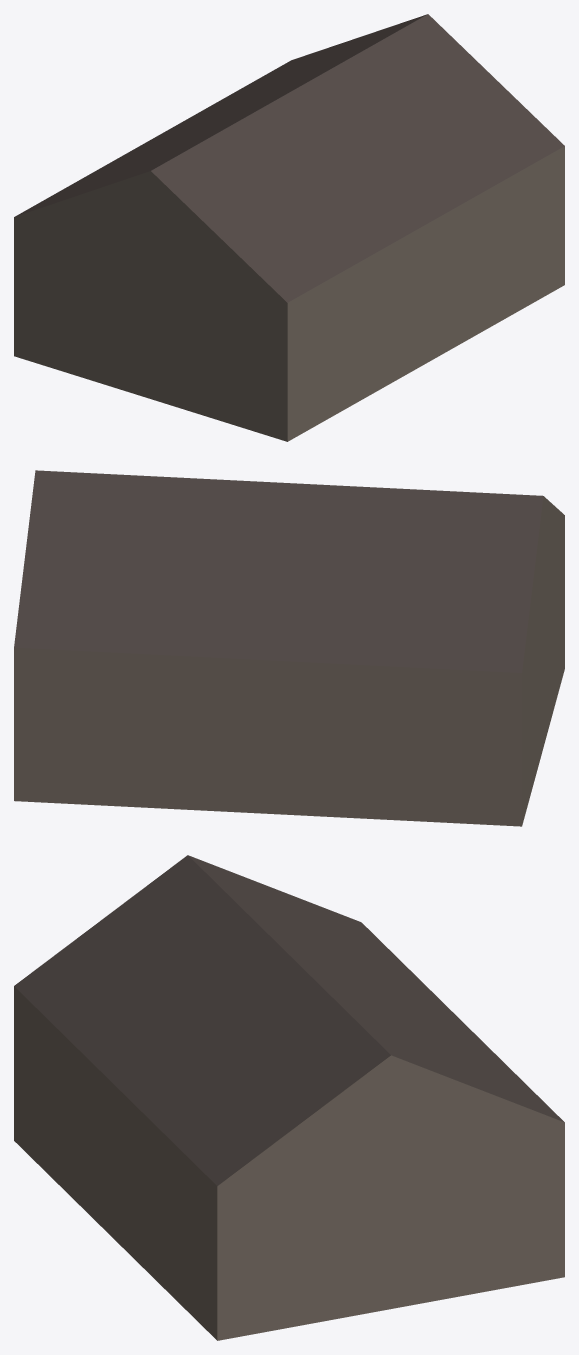
3 renders of one model, top to bottom at view 1: azimuth 30°, elevation 25°; view 2: azimuth 150°, elevation 25°; view 3: azimuth 270°, elevation 25°, orthographic. The views are drawn at different scales.
Parts seen in each view (by area): view 1: HP-w373833560; view 2: HP-w373833560; view 3: HP-w373833560.
Boxes of the visible parts, x1,y1,x2,y2 form: HP-w373833560: (14, 14, 564, 441); HP-w373833560: (14, 470, 564, 826); HP-w373833560: (14, 855, 564, 1340).
Size of the model in its own units: 21.95 by 9.84 by 19.37.
